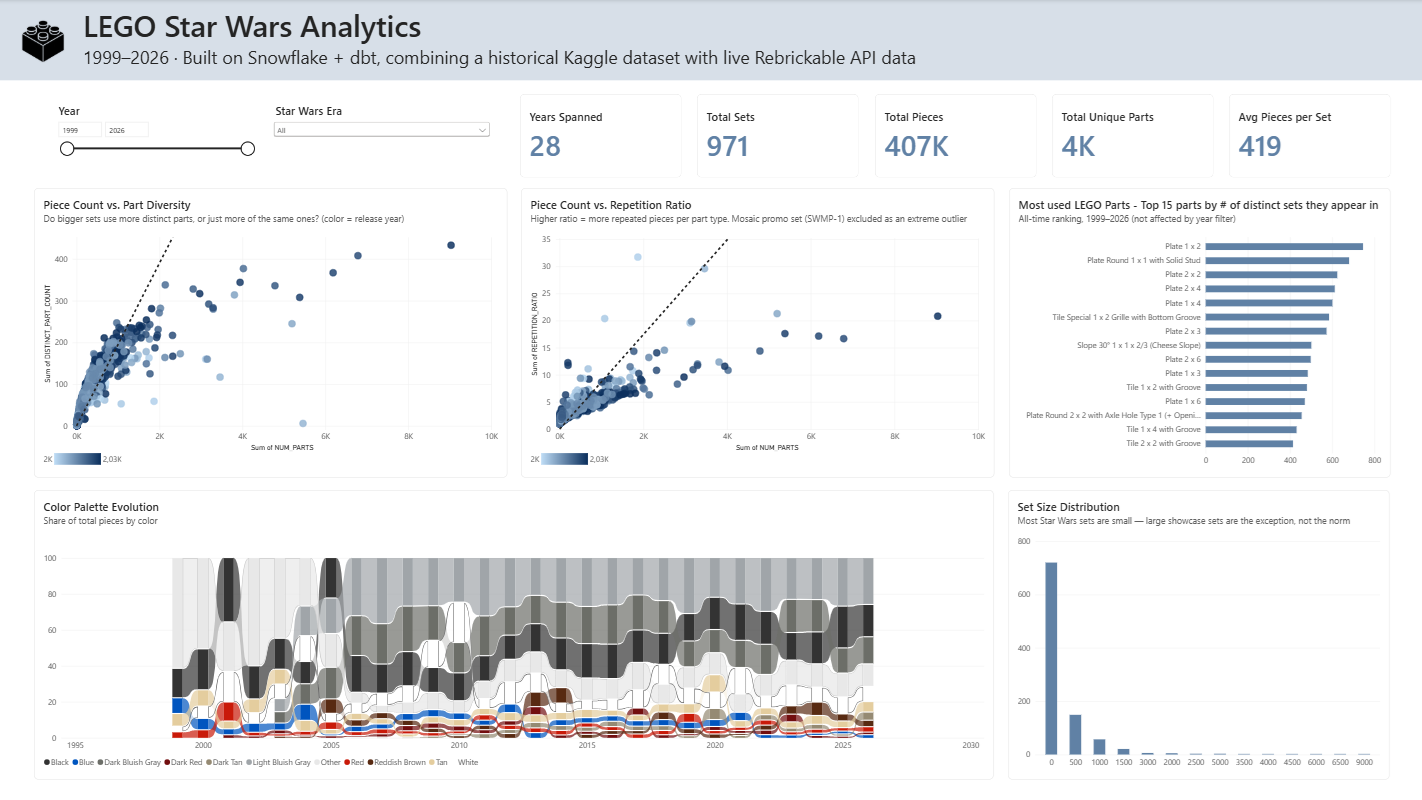

What the dashboard file says about the page in this screenshot:
{"tool":"powerbi","page":{"name":"Page 1","canvas":[2560,1440],"ordinal":0},"visuals":[{"type":"ribbonChart","title":"Color Palette Evolution","fields":{"Category":["MART_COLOR_TRENDS_BY_YEAR.YEAR"],"Series":["MART_COLOR_TRENDS_BY_YEAR.COLOR_GROUP"],"Y":["Sum(MART_COLOR_TRENDS_BY_YEAR.PCT_OF_YEAR)"]},"box":[62.5,882,1722.5,520],"z":0},{"type":"scatterChart","title":"Piece Count vs. Part Diversity","fields":{"Category":["MART_SET_ANALYTICS.SET_NUM"],"X":["Sum(MART_SET_ANALYTICS.NUM_PARTS)"],"Y":["Sum(MART_SET_ANALYTICS.DISTINCT_PART_COUNT)"]},"box":[63.3,340,850,520],"z":1000},{"type":"scatterChart","title":"Piece Count vs. Repetition Ratio","fields":{"Category":["MART_SET_ANALYTICS.SET_NUM"],"X":["Sum(MART_SET_ANALYTICS.NUM_PARTS)"],"Y":["Sum(MART_SET_ANALYTICS.REPETITION_RATIO)"]},"box":[936.7,340,850,520],"z":2000},{"type":"columnChart","title":"Set Size Distribution","fields":{"Category":["MART_SET_ANALYTICS.NUM_PARTS (bins)"],"Y":["CountNonNull(MART_SET_ANALYTICS.SET_NUM)"]},"box":[1812.5,882,685,520],"z":3000},{"type":"clusteredBarChart","title":"Most used LEGO Parts - Top 15 parts by # of distinct sets they appear in","fields":{"Category":["MART_PART_REUSE_RANKING.PART_NAME"],"Y":["Sum(MART_PART_REUSE_RANKING.NUM_SETS_USED_IN)"]},"box":[1813.3,340,685,520],"z":4000},{"type":"shape","box":[0,0,2560,146],"z":5000},{"type":"textbox","box":[150,10,2217.5,135],"z":6000},{"type":"cardVisual","fields":{"Data":["Measures Table.Years Spanned"]},"box":[936,170,290,150],"z":7000},{"type":"slicer","fields":{"Values":["DimYear.Year"]},"box":[98,186,364,154],"z":8000},{"type":"cardVisual","fields":{"Data":["Measures Table.Total Sets"]},"box":[1254,170,290,150],"z":9000},{"type":"cardVisual","fields":{"Data":["Measures Table.Total Pieces"]},"box":[1572,170,290,150],"z":10000},{"type":"cardVisual","fields":{"Data":["Measures Table.Total Unique Parts"]},"box":[1890,170,290,150],"z":11000},{"type":"cardVisual","fields":{"Data":["Measures Table.Avg Pieces per Set"]},"box":[2208,170,290,150],"z":12000},{"type":"image","box":[26,28,108,92],"z":13000},{"type":"slicer","fields":{"Values":["DimYear.Era"]},"box":[488,186,398,98],"z":14000}]}

Visuals, with their boxes in screenshot pixels (x1, y1, x2, y2), scaled from the page's 2560x1440 canvas onto the 1422x800 screenshot:
"Color Palette Evolution" ribbonChart: (x1=35, y1=490, x2=992, y2=779)
"Piece Count vs. Part Diversity" scatterChart: (x1=35, y1=189, x2=507, y2=478)
"Piece Count vs. Repetition Ratio" scatterChart: (x1=520, y1=189, x2=992, y2=478)
"Set Size Distribution" columnChart: (x1=1007, y1=490, x2=1387, y2=779)
"Most used LEGO Parts - Top 15 parts by # of distinct sets they appear in" clusteredBarChart: (x1=1007, y1=189, x2=1388, y2=478)
shape: (x1=0, y1=0, x2=1421, y2=81)
textbox: (x1=83, y1=6, x2=1315, y2=81)
cardVisual - Measures Table.Years Spanned: (x1=520, y1=94, x2=681, y2=178)
slicer - DimYear.Year: (x1=54, y1=103, x2=257, y2=189)
cardVisual - Measures Table.Total Sets: (x1=697, y1=94, x2=858, y2=178)
cardVisual - Measures Table.Total Pieces: (x1=873, y1=94, x2=1034, y2=178)
cardVisual - Measures Table.Total Unique Parts: (x1=1050, y1=94, x2=1211, y2=178)
cardVisual - Measures Table.Avg Pieces per Set: (x1=1226, y1=94, x2=1388, y2=178)
image: (x1=14, y1=16, x2=74, y2=67)
slicer - DimYear.Era: (x1=271, y1=103, x2=492, y2=158)
